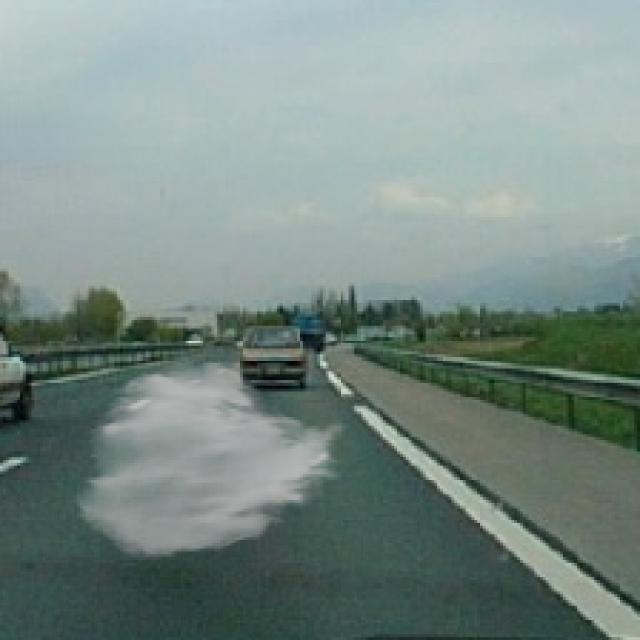smoke: (71, 357, 352, 560)
